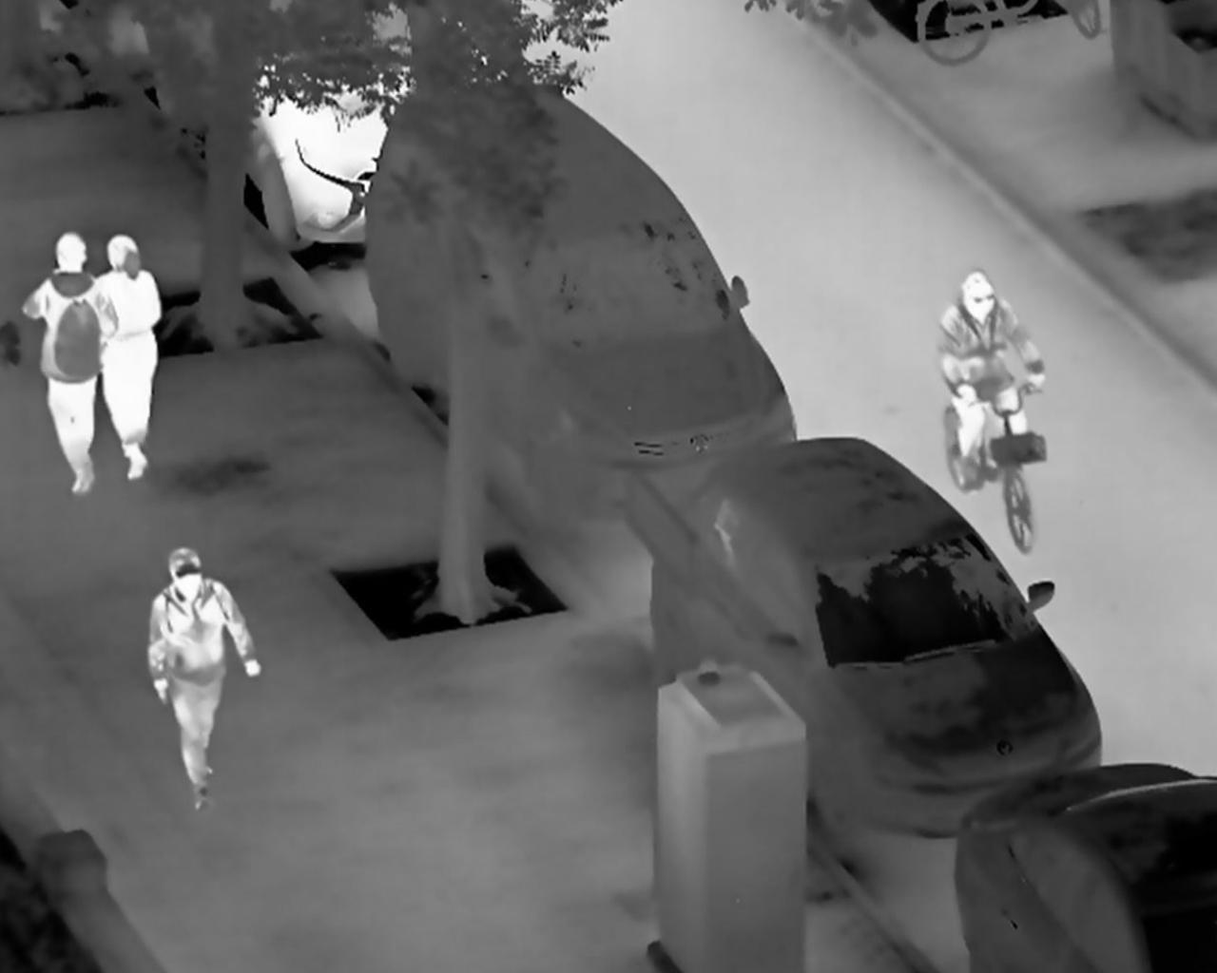person: (144, 544, 263, 818), (926, 268, 1052, 486), (21, 230, 121, 498), (92, 232, 165, 486)
